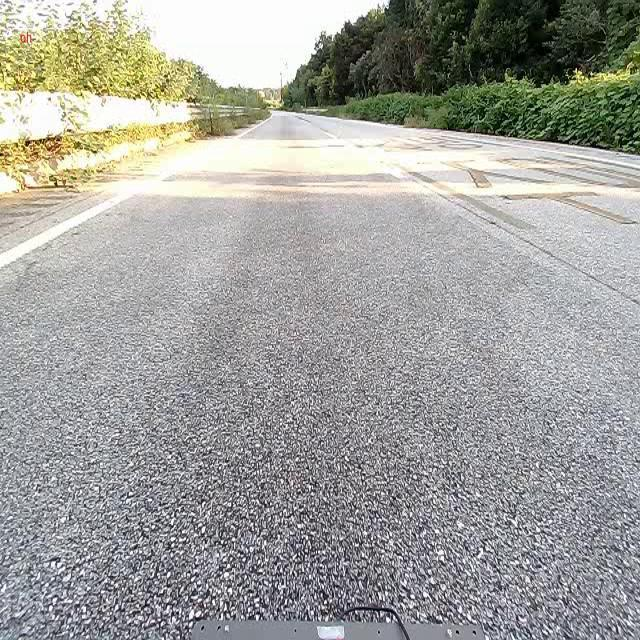Lane: (0, 184, 142, 276), (0, 188, 139, 269)
